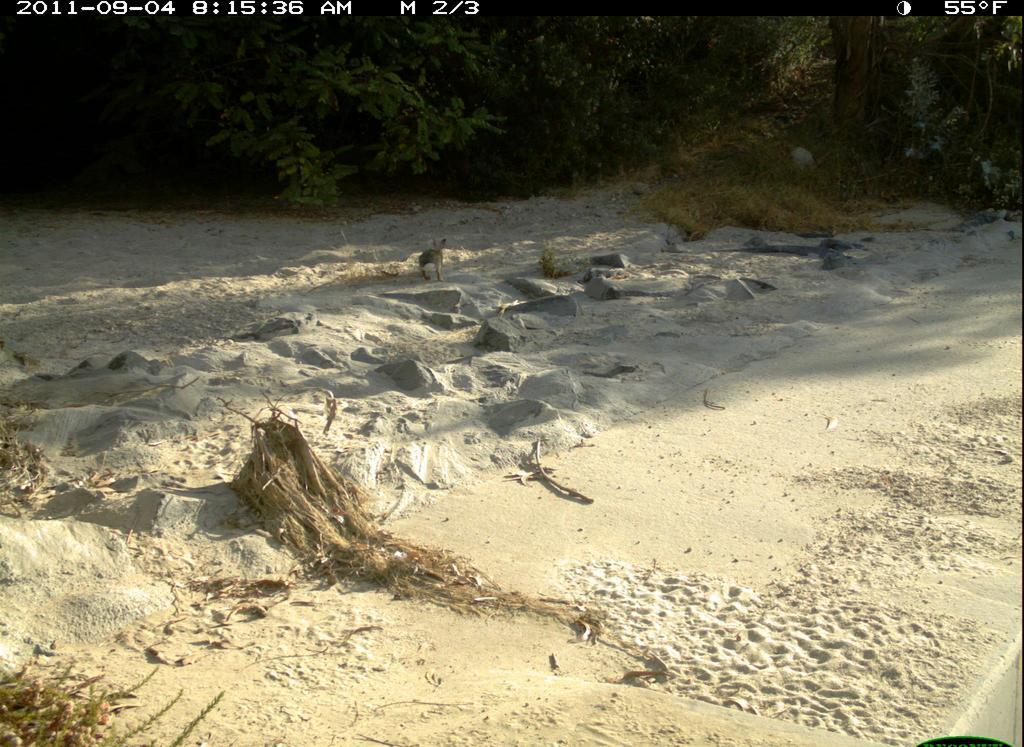rabbit: (395, 226, 468, 294)
